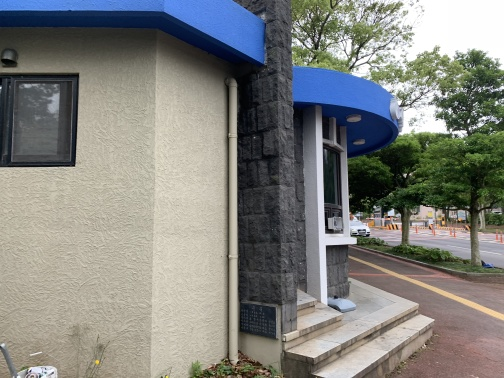Security Office: (183, 17, 428, 378)
